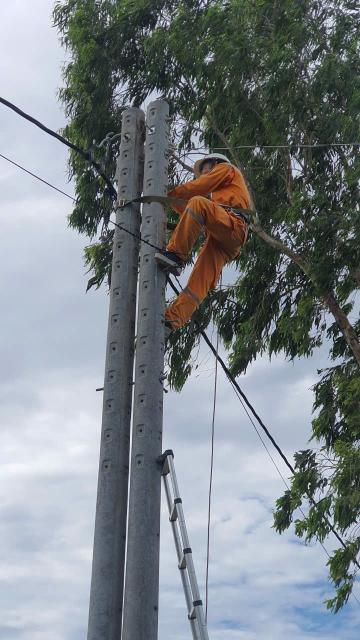harness: (229, 204, 253, 223)
helmet: (194, 152, 234, 179)
shoes: (154, 243, 190, 279), (156, 312, 176, 338)
